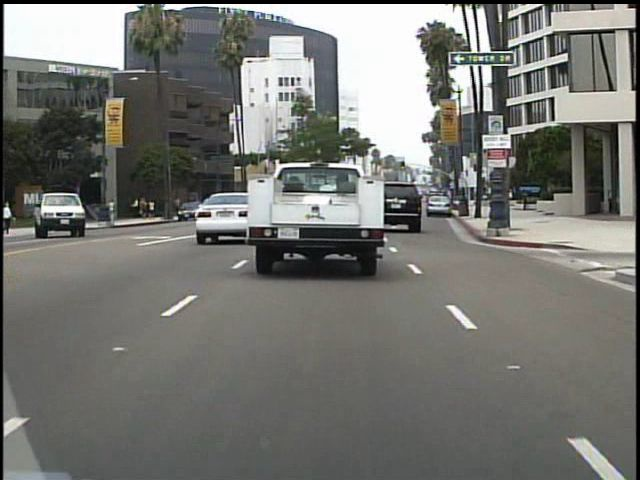person: (60, 192, 77, 230), (4, 198, 19, 236), (54, 200, 70, 235), (111, 197, 118, 225)
